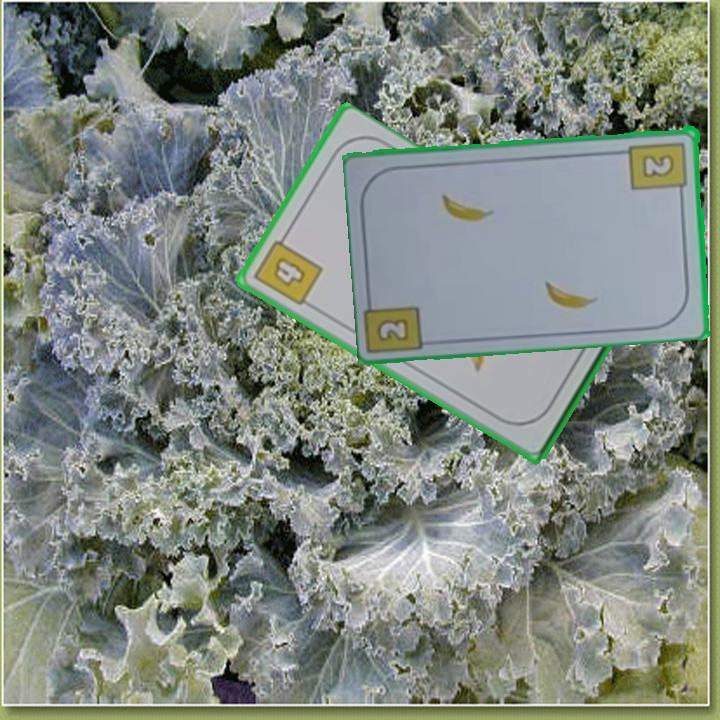2b: (626, 138, 691, 199), (373, 314, 412, 345)
4b: (250, 229, 326, 309)
